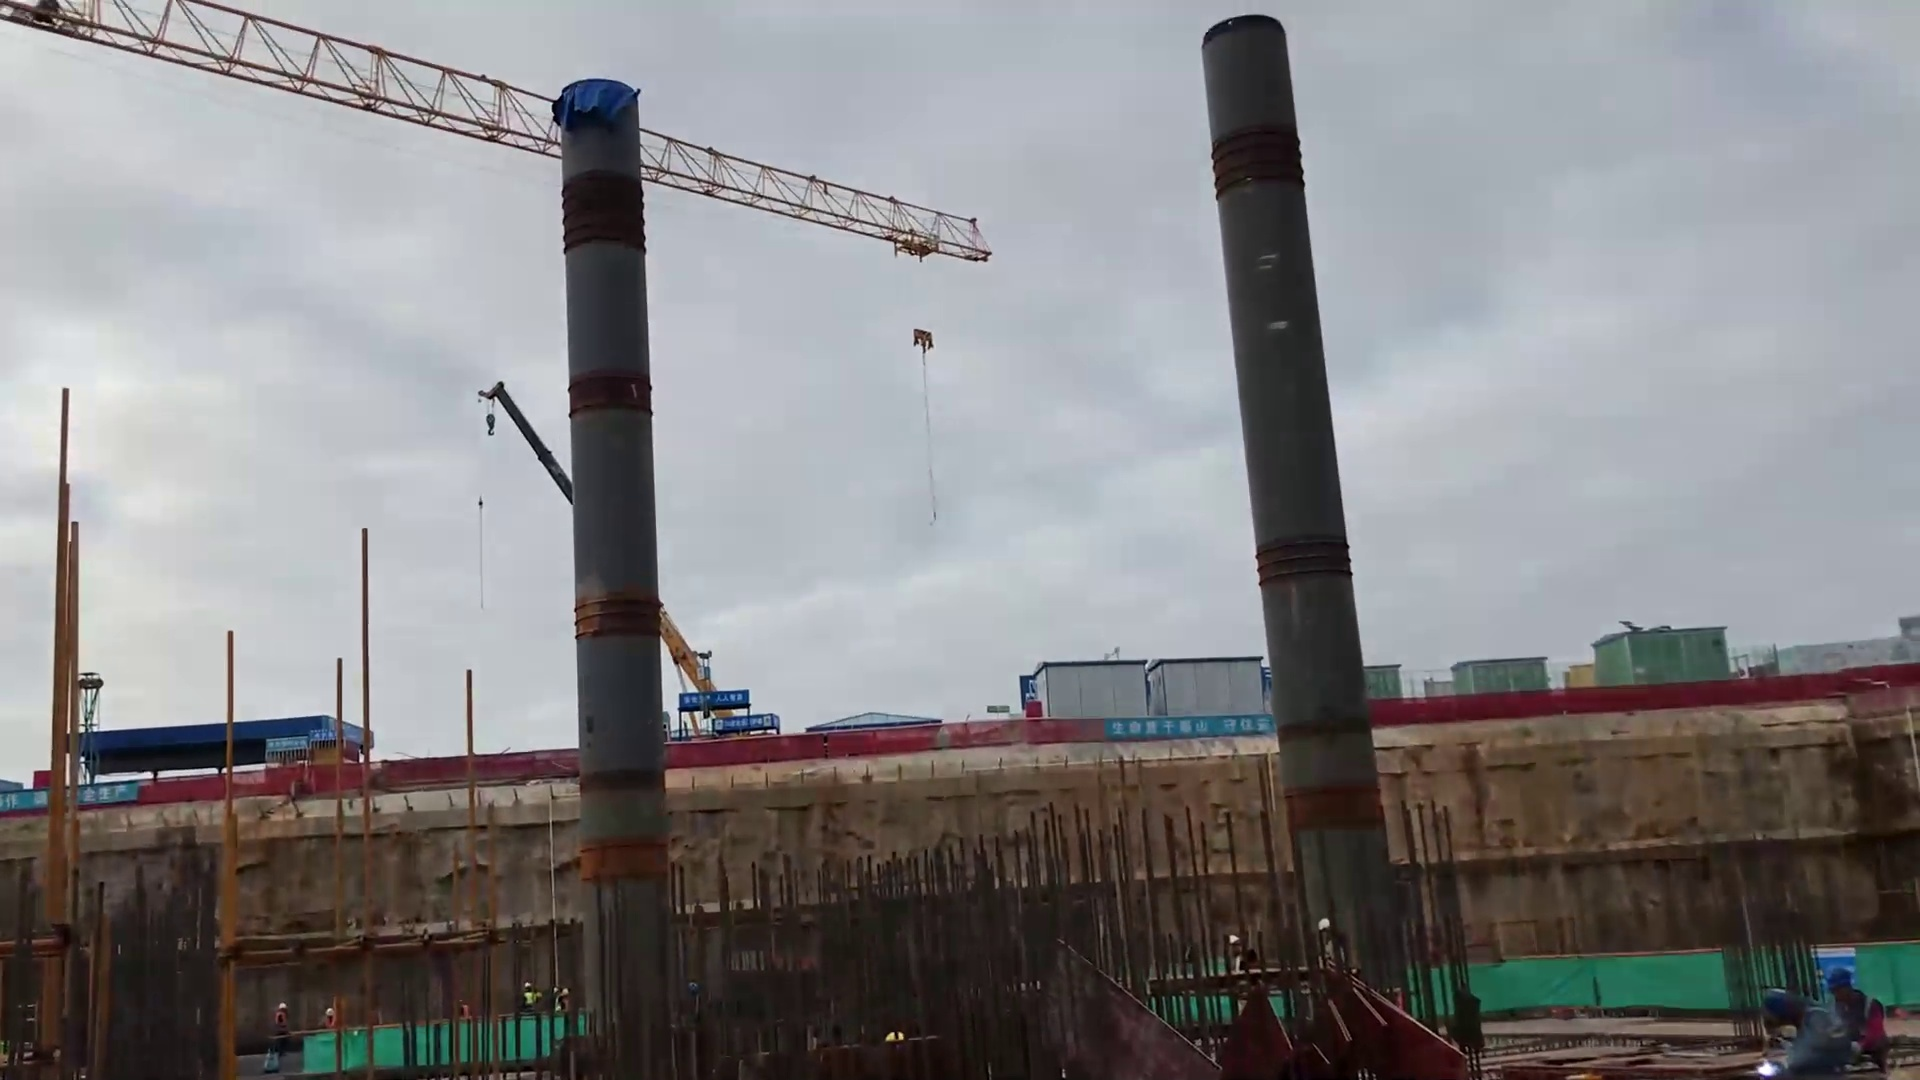helmet: (1760, 985, 1792, 1021), (1820, 962, 1855, 983), (1316, 916, 1334, 932), (1229, 935, 1242, 946), (555, 986, 569, 995), (278, 1003, 288, 1011), (324, 1007, 334, 1016), (458, 997, 465, 1005), (526, 982, 532, 989)
person: (1760, 992, 1843, 1080), (1828, 962, 1887, 1066), (1225, 933, 1263, 999), (1319, 912, 1347, 969), (273, 999, 289, 1050), (551, 983, 575, 1010), (522, 981, 540, 1010), (323, 1006, 340, 1025), (455, 998, 474, 1016)
vest: (1795, 1007, 1848, 1078), (1845, 990, 1883, 1048), (1325, 938, 1344, 969), (1234, 951, 1252, 976), (275, 1010, 287, 1030), (523, 991, 535, 1005), (326, 1017, 337, 1026), (460, 1007, 468, 1016)
